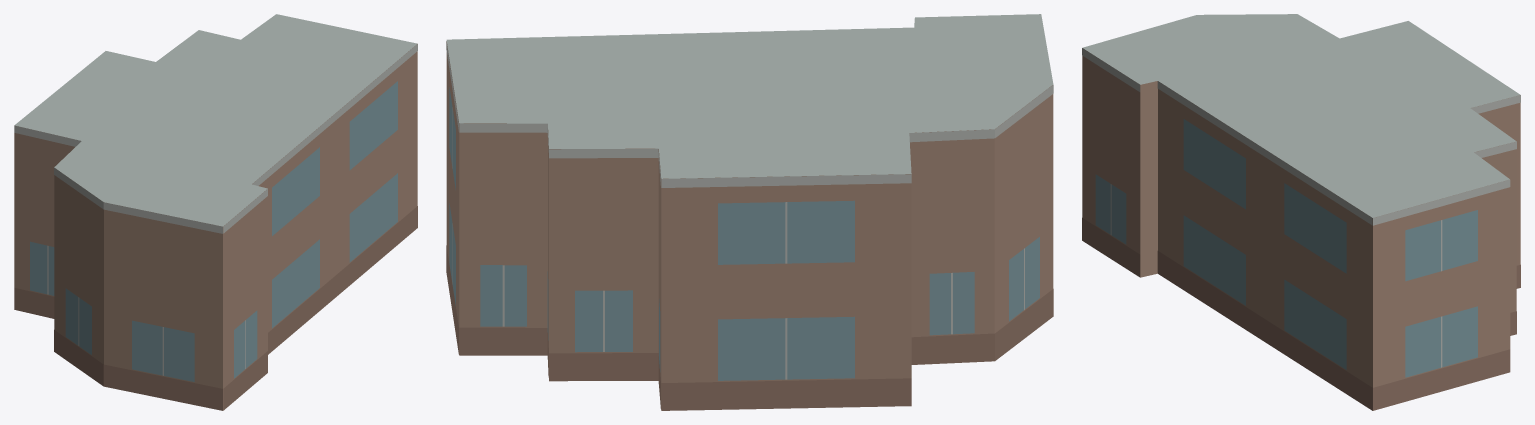
Rendered from survey-upis-32740295.glb.
The picture shows the model from 3 angles, left to right: view 1: azimuth 30°, elevation 25°; view 2: azimuth 150°, elevation 25°; view 3: azimuth 270°, elevation 25°; orthographic projection. The views are drawn at different scales.
Visible parts, largest first — view 1: survey-upis-32740295.tmp; view 2: survey-upis-32740295.tmp; view 3: survey-upis-32740295.tmp.
Part boxes in pixels (x1,y1,x2,y2): survey-upis-32740295.tmp: [14, 14, 417, 410]; survey-upis-32740295.tmp: [446, 14, 1053, 410]; survey-upis-32740295.tmp: [1082, 14, 1520, 410].
Bounding box in the file's own units: 13.85 × 6.1 × 12.58.
